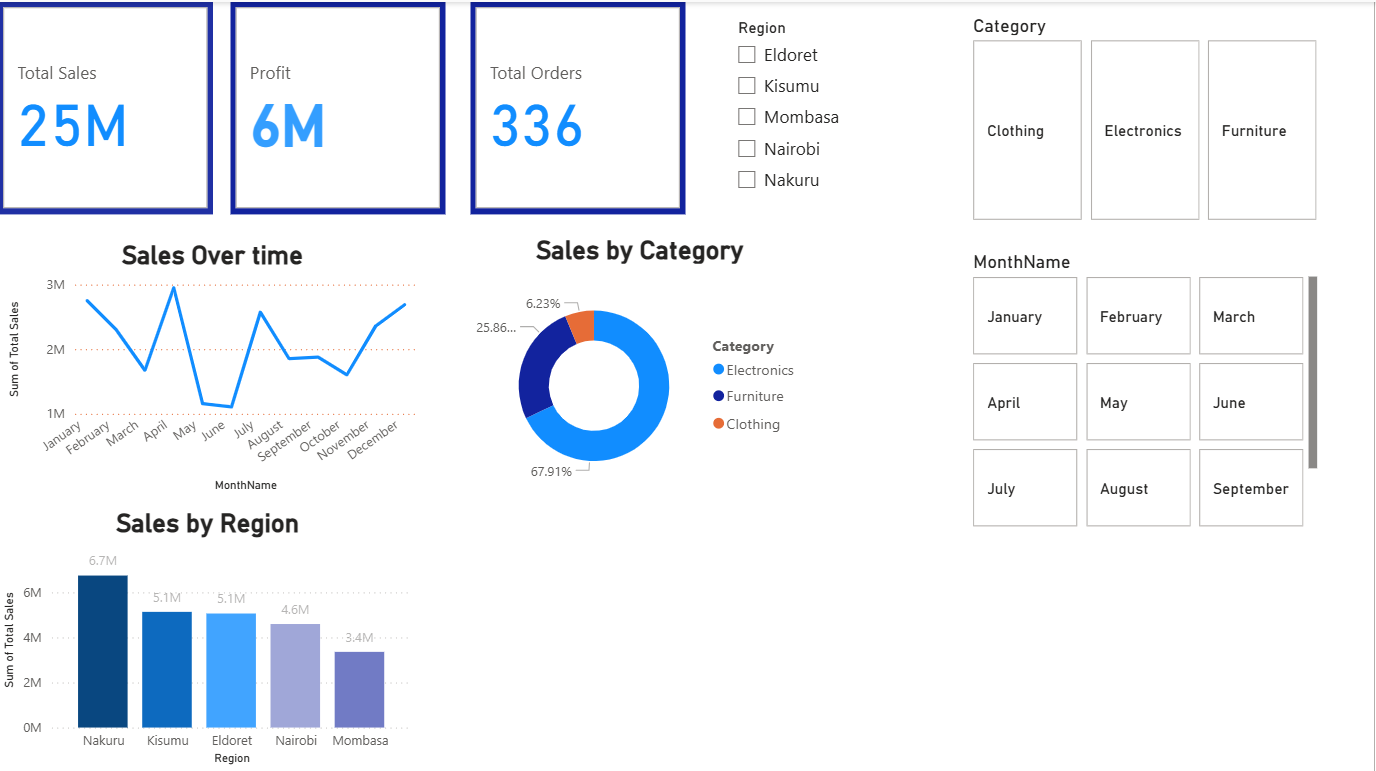

What the dashboard file says about the page in this screenshot:
{"tool":"powerbi","page":{"name":"Page 1","canvas":[1280,720],"ordinal":0},"visuals":[{"type":"cardVisual","fields":{"Data":["Sum(PerformanceData.Total Sales)"]},"box":[0,0,200.3,197.6],"z":0},{"type":"cardVisual","fields":{"Data":["Sum(PerformanceData.Profit)"]},"box":[216.8,0,200.3,197.6],"z":1000},{"type":"cardVisual","fields":{"Data":["PerformanceData.Total Orders"]},"box":[439.1,0,200.3,197.6],"z":2000},{"type":"lineChart","title":"Sales Over time","fields":{"Category":["PerformanceData.MonthName"],"Y":["Sum(PerformanceData.Total Sales)"]},"box":[4.7,216.3,389.5,244.2],"z":3000},{"type":"columnChart","title":"Sales by Region","fields":{"Category":["PerformanceData.Region"],"Y":["Sum(PerformanceData.Total Sales)"]},"box":[0,471,390,244],"z":4000},{"type":"donutChart","title":"Sales by Category","fields":{"Category":["PerformanceData.Category"],"Y":["Sum(PerformanceData.Total Sales)"]},"box":[439.5,216.3,315.1,254.7],"z":5000},{"type":"slicer","fields":{"Values":["PerformanceData.Region"]},"box":[675.6,10.5,198.8,197.7],"z":6000},{"type":"advancedSlicerVisual","fields":{"Values":["PerformanceData.Category"]},"box":[902.3,11.6,330.2,196.5],"z":7000},{"type":"advancedSlicerVisual","fields":{"Values":["PerformanceData.MonthName"]},"box":[902.3,231.4,330.2,264],"z":8000}]}

Visuals, with their boxes in screenshot pixels (x1, y1, x2, y2), scaled from the page's 1280x720 canvas onto the 1376x771 screenshot:
cardVisual - Sum(PerformanceData.Total Sales): <bbox>0, 0, 215, 212</bbox>
cardVisual - Sum(PerformanceData.Profit): <bbox>233, 0, 448, 212</bbox>
cardVisual - PerformanceData.Total Orders: <bbox>472, 0, 687, 212</bbox>
"Sales Over time" lineChart: <bbox>5, 232, 424, 493</bbox>
"Sales by Region" columnChart: <bbox>0, 504, 419, 766</bbox>
"Sales by Category" donutChart: <bbox>472, 232, 811, 504</bbox>
slicer - PerformanceData.Region: <bbox>726, 11, 940, 223</bbox>
advancedSlicerVisual - PerformanceData.Category: <bbox>970, 12, 1325, 223</bbox>
advancedSlicerVisual - PerformanceData.MonthName: <bbox>970, 248, 1325, 530</bbox>
